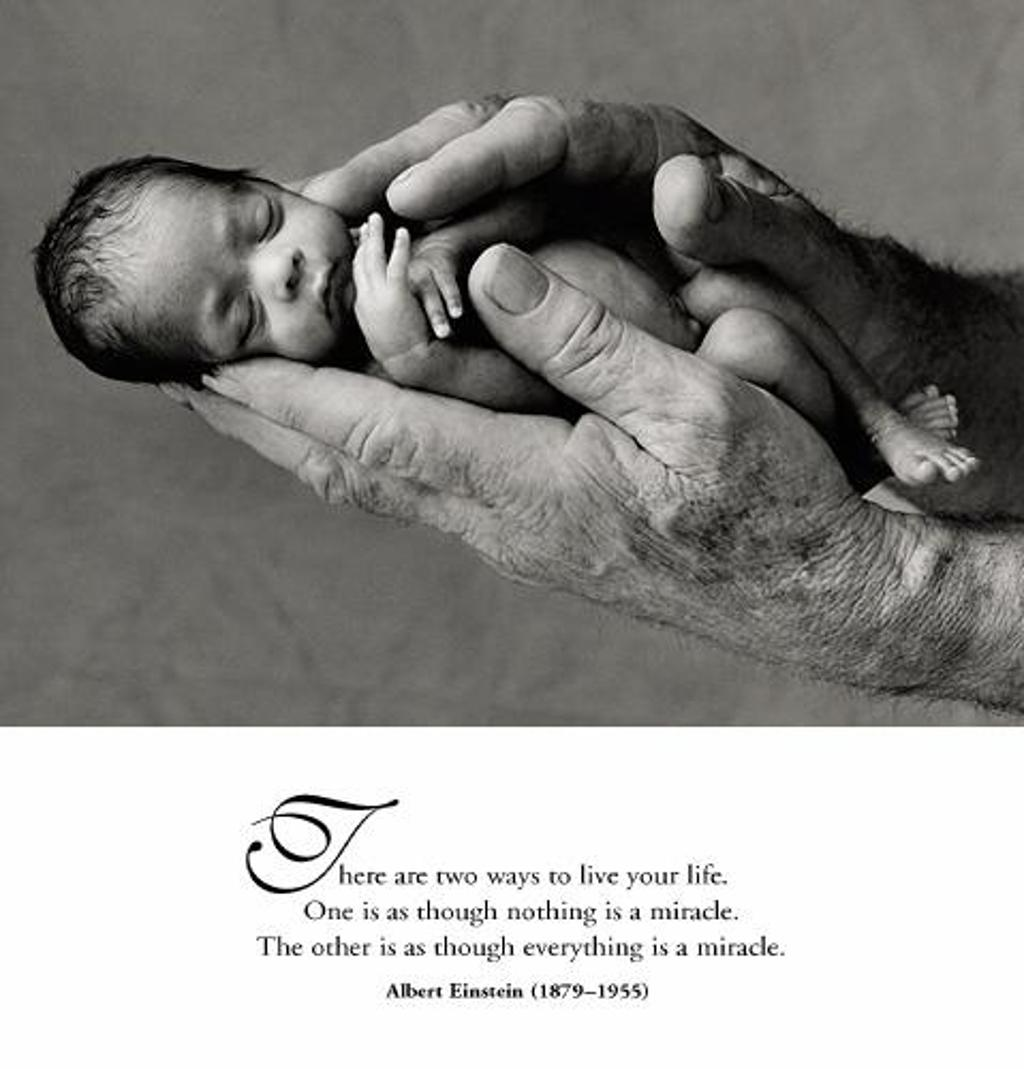face: (132, 178, 362, 364)
